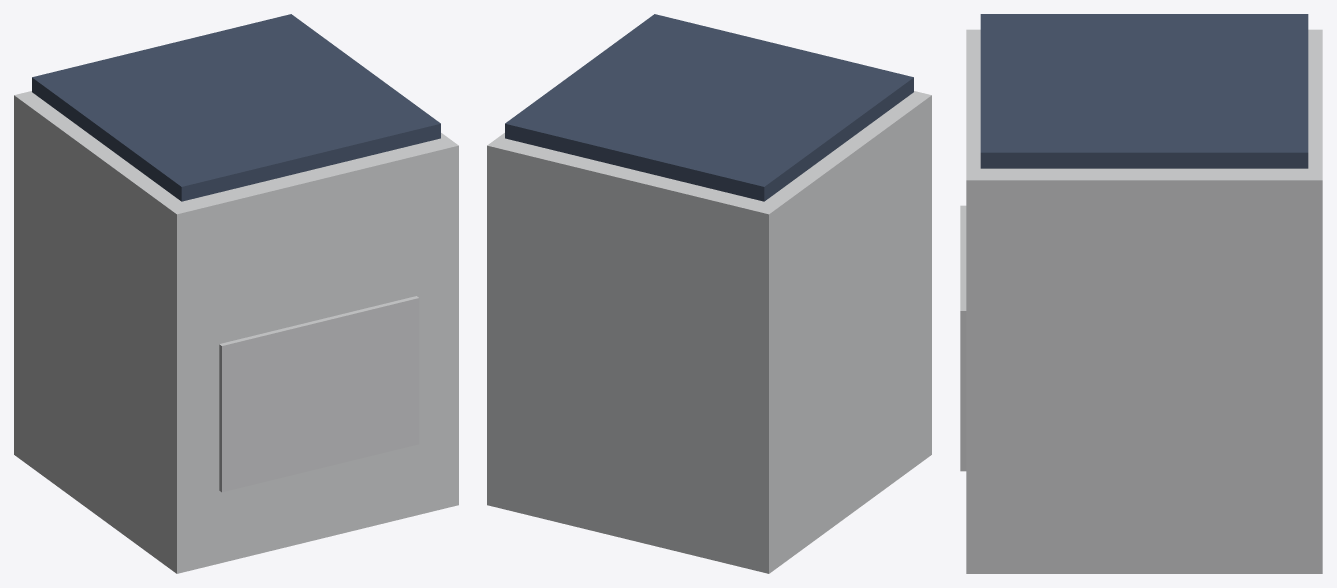
Rendered from fogao.glb.
3 renders of one model, left to right at view 1: azimuth 30°, elevation 25°; view 2: azimuth 150°, elevation 25°; view 3: azimuth 270°, elevation 25°, orthographic. The views are drawn at different scales.
Size of the model in its own units: 0.6 by 0.7715 by 0.61.
